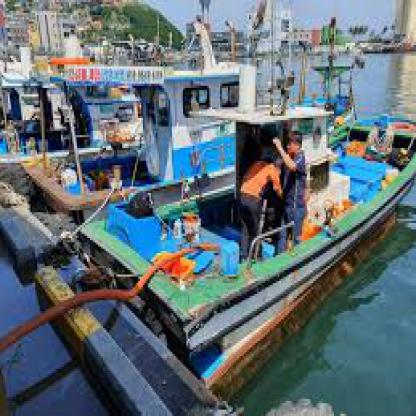fish-b: (76, 105, 414, 401), (27, 38, 294, 214)
